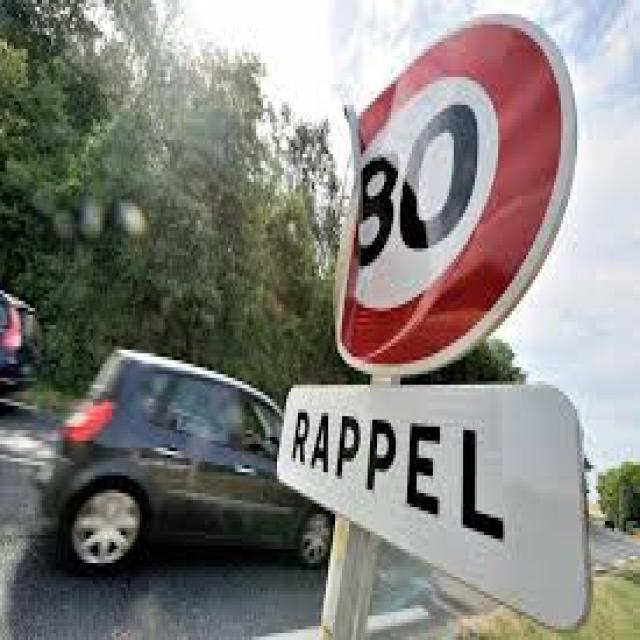speed: (335, 14, 575, 360)
